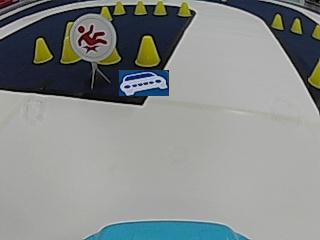cone: (135, 34, 160, 68), (33, 37, 51, 63), (60, 40, 79, 64), (307, 59, 319, 90), (270, 13, 283, 30), (178, 1, 191, 17), (153, 0, 166, 16), (134, 0, 147, 15), (112, 0, 125, 15), (291, 17, 302, 34), (100, 6, 112, 21), (312, 24, 319, 40)
tumble: (77, 23, 106, 55)
